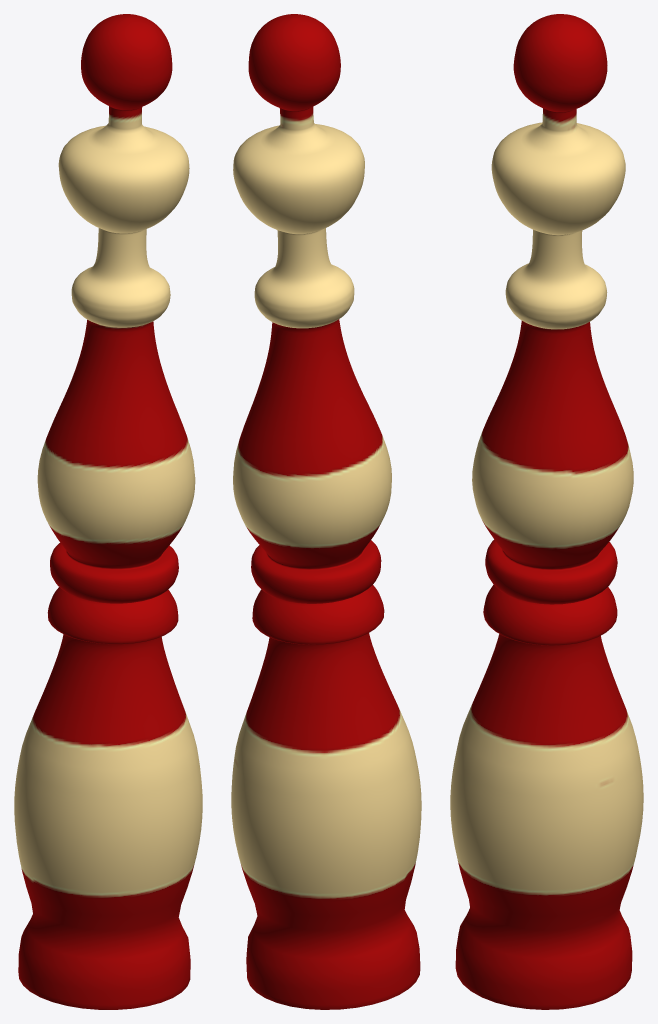
The model's file is balu2.glb.
3 views of the same model, side by side, from view 1: azimuth 30°, elevation 25°; view 2: azimuth 150°, elevation 25°; view 3: azimuth 270°, elevation 25° (orthographic). The views are drawn at different scales.
Visible parts, largest first — view 1: balustre; view 2: balustre; view 3: balustre.
Boxes of the visible parts, <box> form: balustre: <box>14,14,202,1009</box>; balustre: <box>231,14,421,1009</box>; balustre: <box>450,14,643,1009</box>.
Size of the model in its own units: 0.0183 by 0.101 by 0.0182.
Materials: 1 (1 with a texture image).
